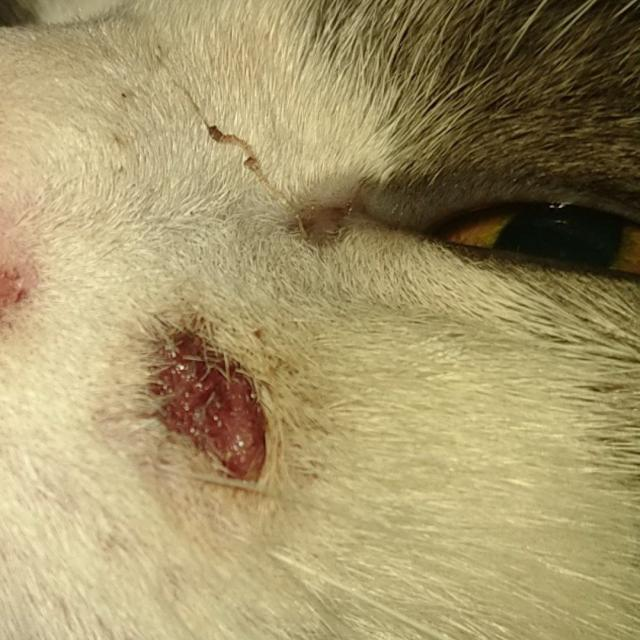hac lao: (119, 293, 306, 526)
